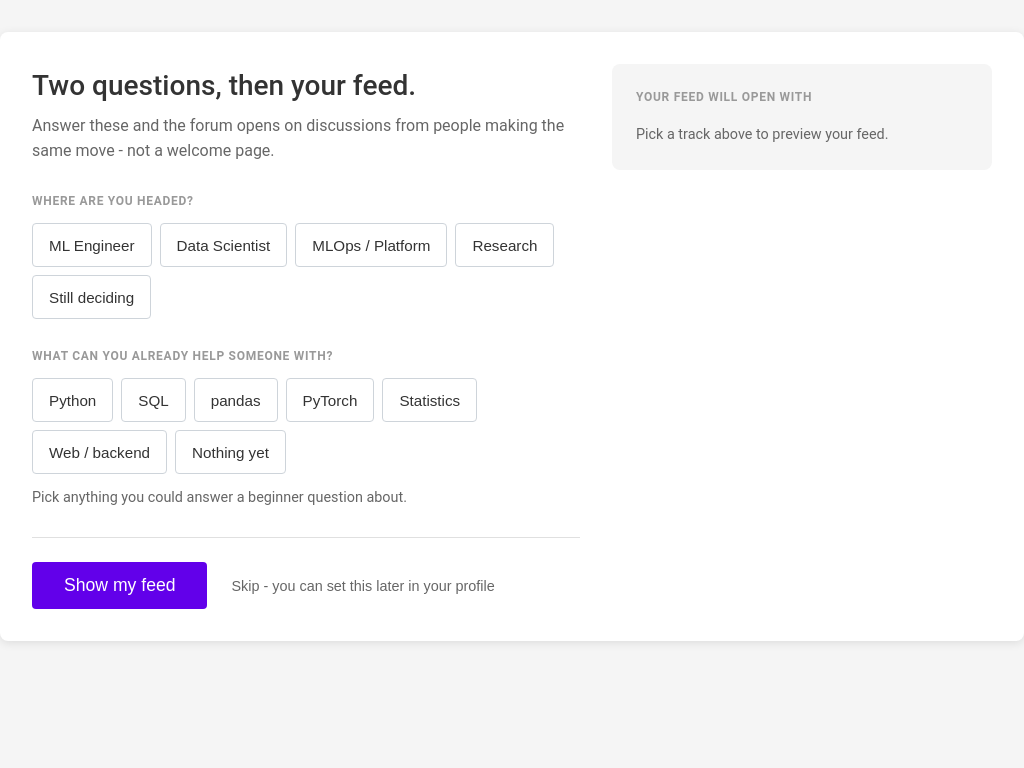
Test: Onboarding feed preview › renders preview posts once a role is picked, and updates when the role changes
Click the button "ML Engineer".
click(92, 245)  # box x1=32 y1=223 x2=152 y2=267
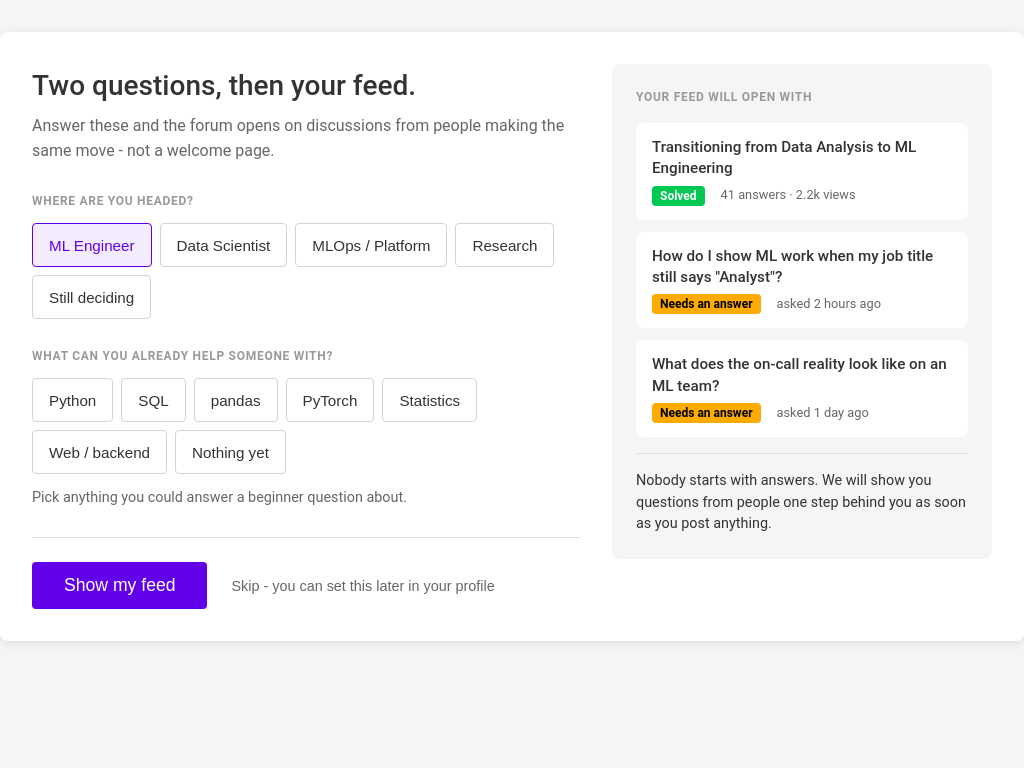
Check: the text "Transitioning from Data Analysis to ML Engineering" is shown, box x1=652 y1=137 x2=952 y2=180
Click the button "Research".
click(505, 245)  # box x1=455 y1=223 x2=554 y2=267
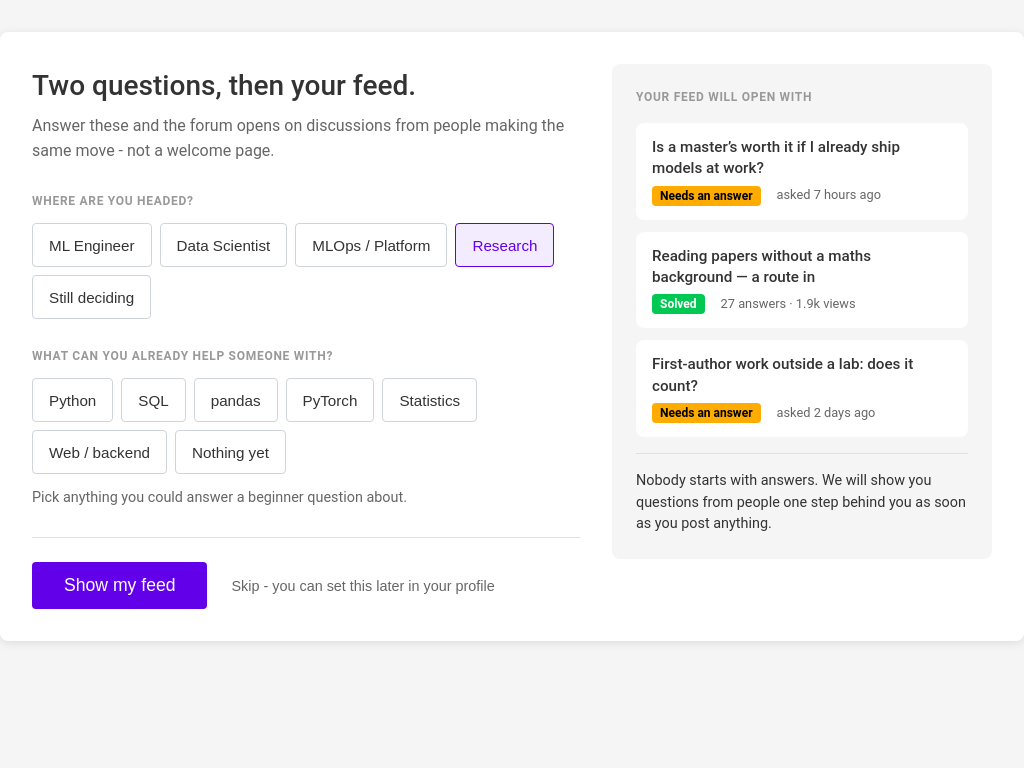
Check: the text "Transitioning from Data Analysis to ML Engineering" is gone
Check: the text "Reading papers without a maths background — a route in" is shown, box x1=652 y1=247 x2=871 y2=286
